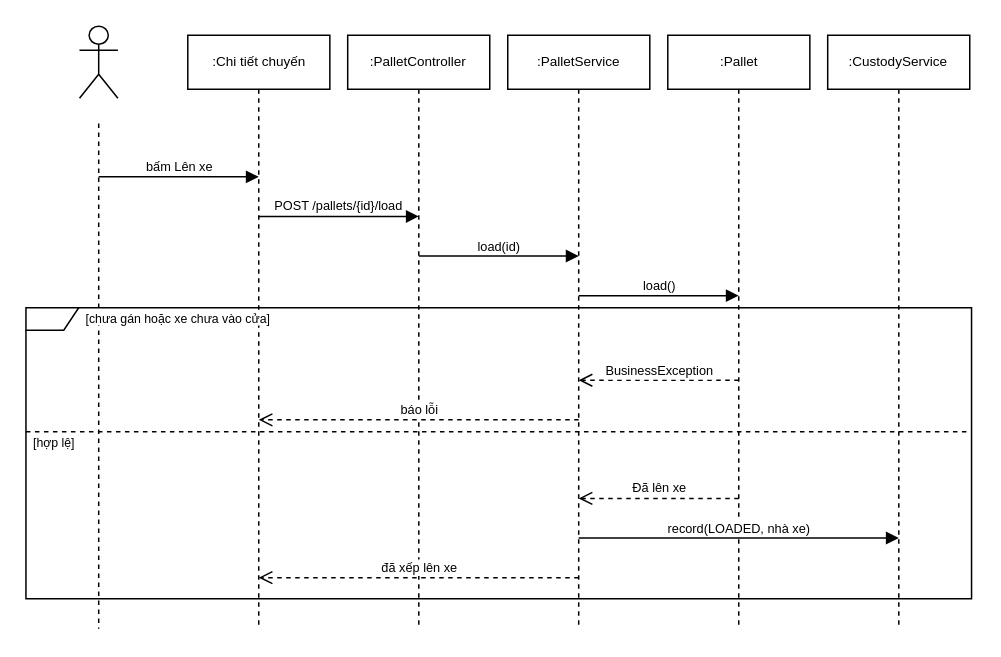
Image size: 1001x657. Some labels were removed from this diagram. The shapes that lost their labels are listed below. From the top down, each one's box as (x1, y1, x2, y2) in pixels, then its label:
(78, 25, 118, 98): NV Outbound
(24, 306, 972, 599): alt
